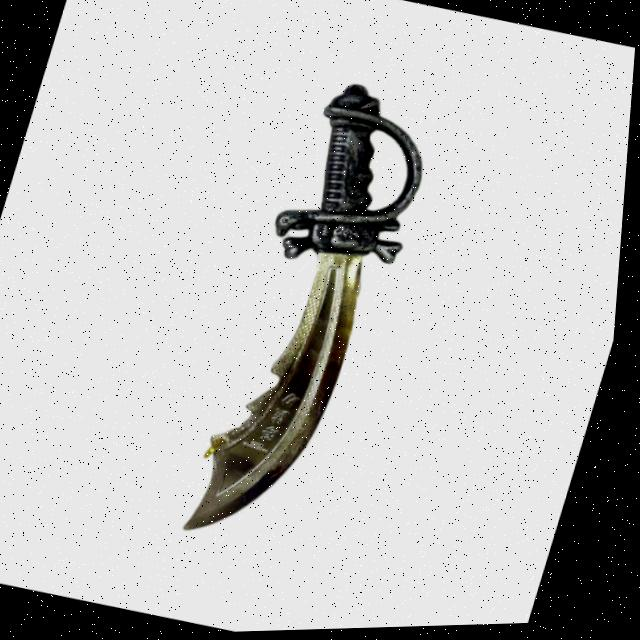knife: (185, 72, 449, 561)
